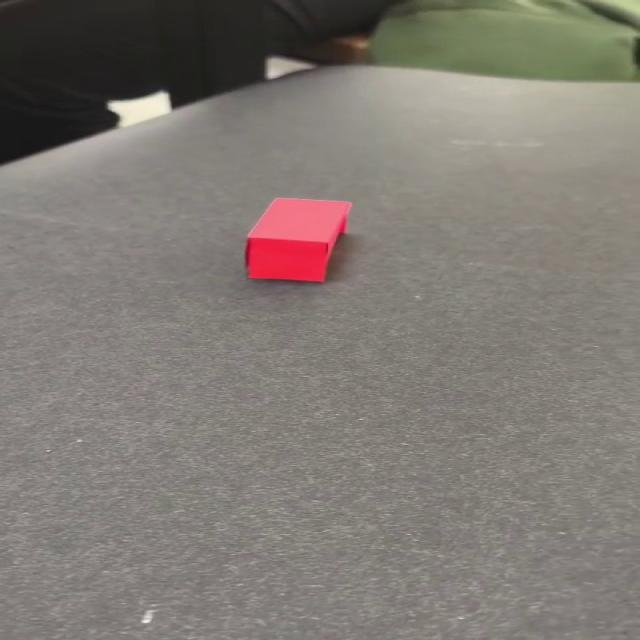red block: (244, 196, 351, 282)
